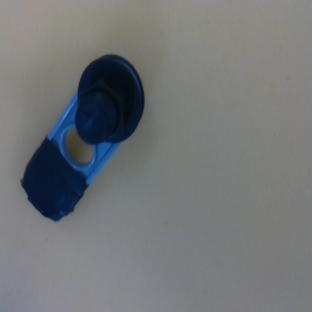part_1_bad: (9, 45, 163, 232)
